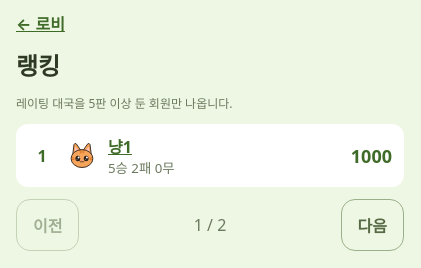
RankingPage › [성공] 다음 쪽 버튼을 누르면 다음 쪽을 요청한다
The image size is (421, 268).
Expected: the link "냥1" is shown, top-left (108, 136), bottom-right (132, 158)
Click the button "다음".
click(372, 225)  # box top-left (340, 199), bottom-right (404, 251)
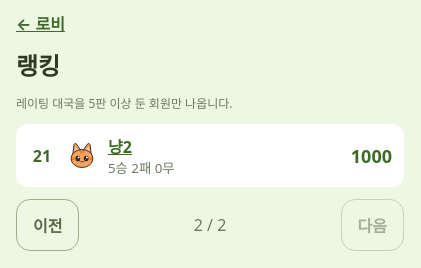
Expected: the link "냥2" is shown, top-left (108, 136), bottom-right (132, 158)
